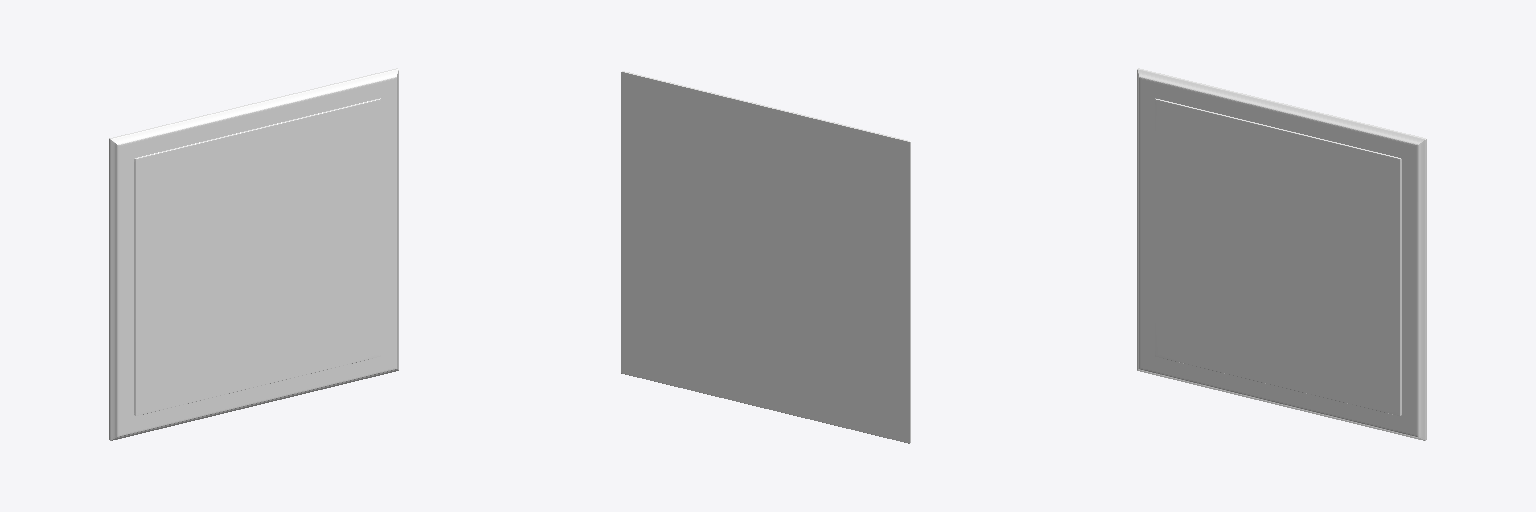
Rendered from chessFloor.obj.
3 views of the same model, side by side, from view 1: azimuth 30°, elevation 25°; view 2: azimuth 150°, elevation 25°; view 3: azimuth 330°, elevation 25° (orthographic).
Parts seen in each view (by area): view 1: 12951_Stone_Chess_Board_v1_L3.001; view 2: 12951_Stone_Chess_Board_v1_L3.001; view 3: 12951_Stone_Chess_Board_v1_L3.001.
Part boxes in pixels (left/top/right/bottom): 12951_Stone_Chess_Board_v1_L3.001: left=109, top=68, right=398, bottom=440; 12951_Stone_Chess_Board_v1_L3.001: left=621, top=71, right=910, bottom=443; 12951_Stone_Chess_Board_v1_L3.001: left=1137, top=68, right=1426, bottom=440.
Bounding box in the file's own units: 14.64 × 14.64 × 0.4354.